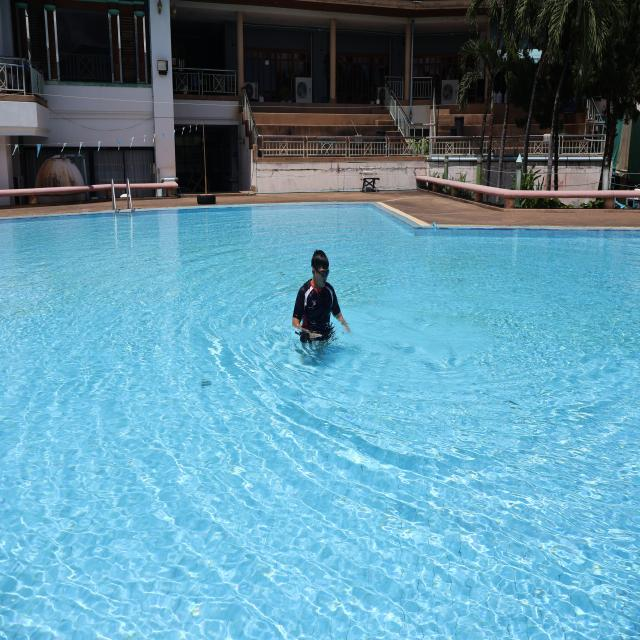Swimming: (289, 247, 353, 356)
